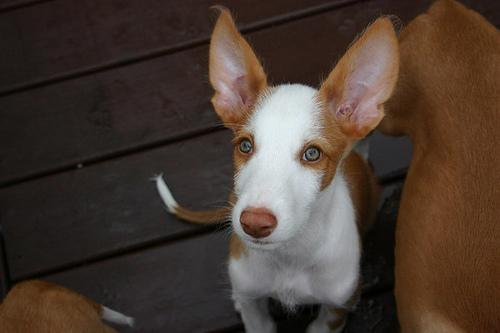Ibizan_hound: (153, 7, 399, 332)
